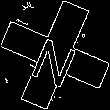N_NE: (27, 24, 83, 86)
